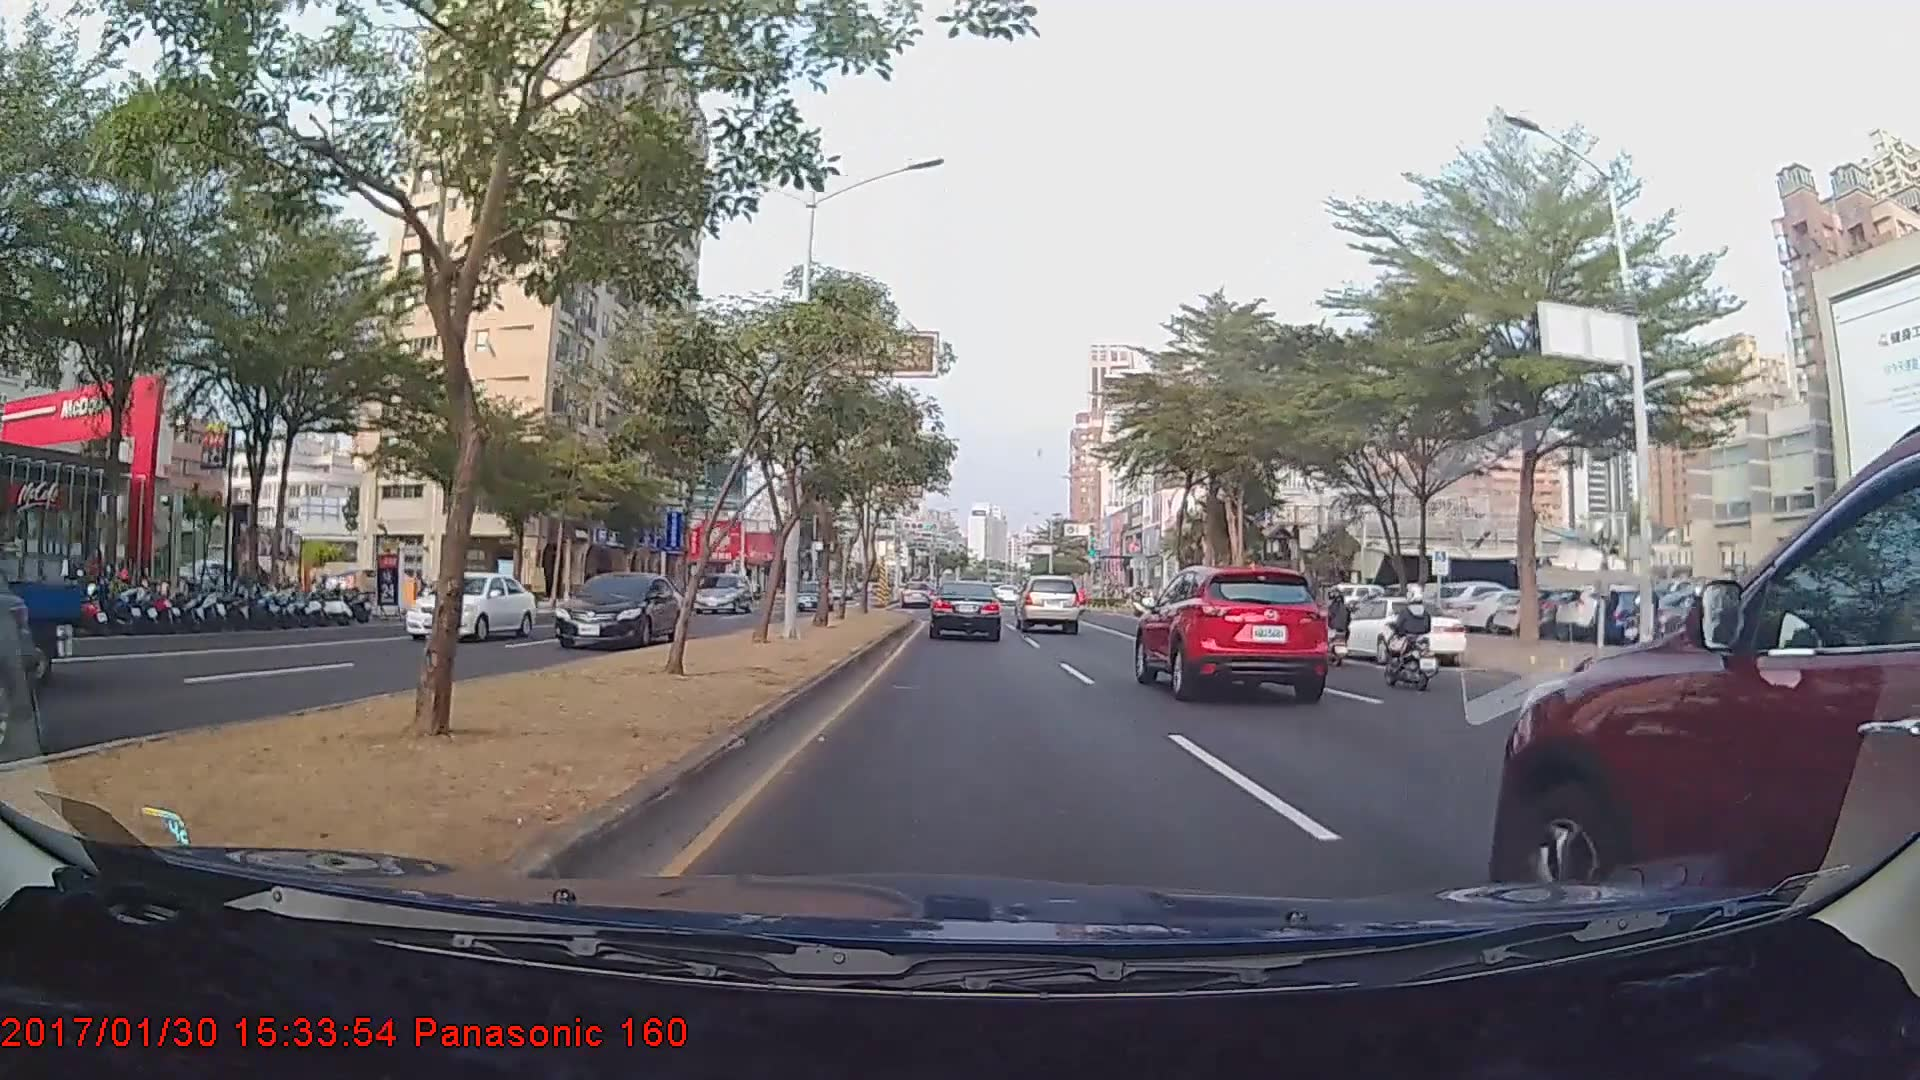rider: (1374, 585, 1444, 693)
vehicle: (1490, 405, 1920, 960), (1134, 558, 1331, 701), (552, 569, 686, 647), (1331, 595, 1466, 666), (404, 572, 533, 641), (929, 577, 1003, 641), (1015, 574, 1081, 634), (691, 571, 756, 613), (787, 579, 834, 611), (899, 580, 933, 609)
